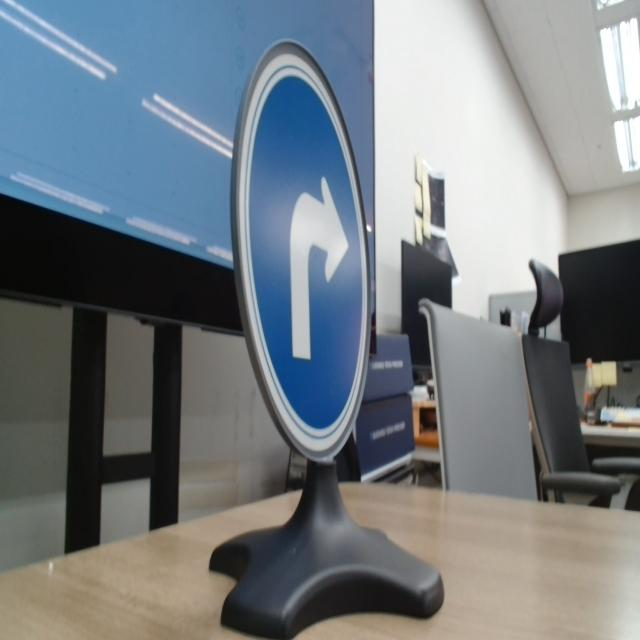right_dierection: (224, 30, 375, 462)
